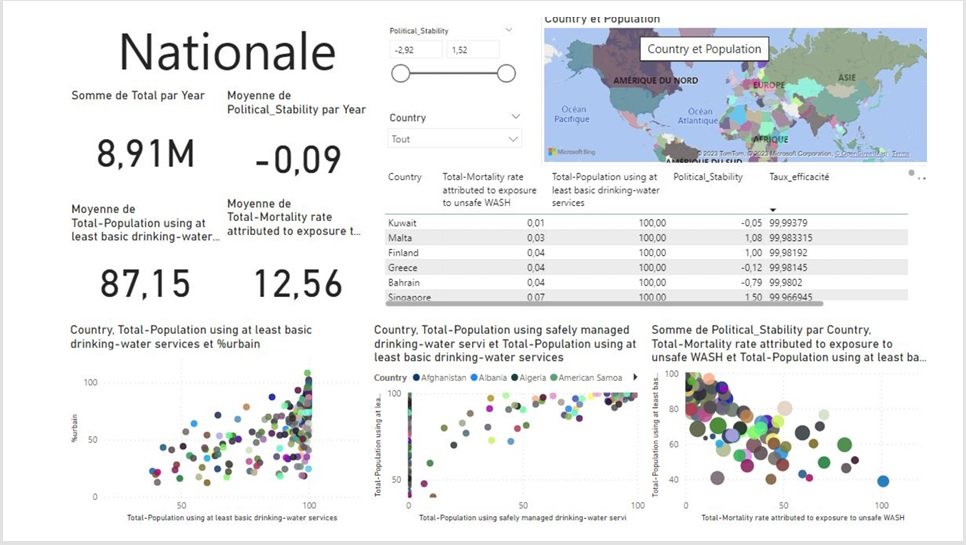

This screenshot's page, from the dashboard's own definition file:
{"tool":"powerbi","page":{"name":"Nationale","canvas":[1280,720],"ordinal":2},"visuals":[{"type":"filledMap","fields":{"Category":["Population_pivoté.Country"],"Series":["Population_pivoté.Total"]},"box":[734.9,0,545.7,216.6],"z":0},{"type":"textbox","box":[137.1,0,597.8,106.9],"z":1000},{"type":"kpi","fields":{"Indicator":["Sum(Population_pivoté.Total)"],"TrendLine":["Population_pivoté.Year"]},"box":[72.7,108.3,218,160.4],"z":2000},{"type":"kpi","fields":{"Indicator":["Avg(Population_pivoté.Political_Stability)"],"TrendLine":["Population_pivoté.Year"]},"box":[290.7,108.3,205.7,159],"z":3000},{"type":"kpi","fields":{"Indicator":["Avg(Population_pivoté.MortalityRate_pivoté.Total-Mortality rate attributed to exposure to unsafe WASH )"],"TrendLine":["Population_pivoté.Year"]},"box":[290.7,259.1,205.7,186.5],"z":4000},{"type":"slicer","fields":{"Values":["Population_pivoté.Political_Stability"]},"box":[510,16.5,197.4,108.3],"z":5000},{"type":"kpi","fields":{"Indicator":["Avg(Population_pivoté.Total-Population using at least basic drinking-water services)"],"TrendLine":["Population_pivoté.Year"]},"box":[72.7,267.4,218,168.6],"z":6000},{"type":"slicer","fields":{"Values":["Population_pivoté.Country"]},"box":[510,135.7,208.4,80.9],"z":7000},{"type":"scatterChart","fields":{"Series":["Population_pivoté.Country"],"Y":["Population_pivoté.%urbain"],"X":["Sum(Population_pivoté.WaterSecurity (2).Total-Population using at least basic drinking-water services )"]},"box":[71.3,436,425,283.8],"z":8000},{"type":"scatterChart","fields":{"X":["Sum(Population_pivoté.MortalityRate_pivoté.Total-Mortality rate attributed to exposure to unsafe WASH )"],"Y":["Population_pivoté.Total-Population using at least basic drinking-water services"],"Size":["Sum(Population_pivoté.Political_Stability)"],"Series":["Population_pivoté.Country"]},"box":[884.3,436,396.2,283.8],"z":9000},{"type":"scatterChart","fields":{"Series":["Population_pivoté.Country"],"Y":["Population_pivoté.Total-Population using at least basic drinking-water services"],"X":["Population_pivoté.Total-Population using safely managed drinking-water servi"]},"box":[496.3,436,388,283.8],"z":10000},{"type":"tableEx","fields":{"Values":["Population_pivoté.Country","Population_pivoté.Total-Mortality rate attributed to exposure to unsafe WASH","Population_pivoté.Total-Population using at least basic drinking-water services","Population_pivoté.Political_Stability","Population_pivoté.Taux_efficacité"]},"box":[510,216.6,752.7,202.9],"z":11000}]}

Visuals, with their boxes in screenshot pixels (x1, y1, x2, y2), scaled from the page's 1280x720 canvas onto the 966x545 screenshot:
filledMap - Population_pivoté.Country x Population_pivoté.Total: pyautogui.locateOnScreen(555, 0, 965, 164)
textbox: pyautogui.locateOnScreen(103, 0, 555, 81)
kpi - Sum(Population_pivoté.Total) x Population_pivoté.Year: pyautogui.locateOnScreen(55, 82, 219, 203)
kpi - Avg(Population_pivoté.Political_Stability) x Population_pivoté.Year: pyautogui.locateOnScreen(219, 82, 375, 202)
kpi - Avg(Population_pivoté.MortalityRate_pivoté.Total-Mortality rate attributed to exposure to unsafe WASH ) x Population_pivoté.Year: pyautogui.locateOnScreen(219, 196, 375, 337)
slicer - Population_pivoté.Political_Stability: pyautogui.locateOnScreen(385, 12, 534, 94)
kpi - Avg(Population_pivoté.Total-Population using at least basic drinking-water services) x Population_pivoté.Year: pyautogui.locateOnScreen(55, 202, 219, 330)
slicer - Population_pivoté.Country: pyautogui.locateOnScreen(385, 103, 542, 164)
scatterChart - Population_pivoté.Country x Population_pivoté.%urbain: pyautogui.locateOnScreen(54, 330, 375, 544)
scatterChart - Sum(Population_pivoté.MortalityRate_pivoté.Total-Mortality rate attributed to exposure to unsafe WASH ) x Population_pivoté.Total-Population using at least basic drinking-water services: pyautogui.locateOnScreen(667, 330, 965, 544)
scatterChart - Population_pivoté.Country x Population_pivoté.Total-Population using at least basic drinking-water services: pyautogui.locateOnScreen(375, 330, 667, 544)
tableEx - Population_pivoté.Country x Population_pivoté.Total-Mortality rate attributed to exposure to unsafe WASH: pyautogui.locateOnScreen(385, 164, 953, 318)
